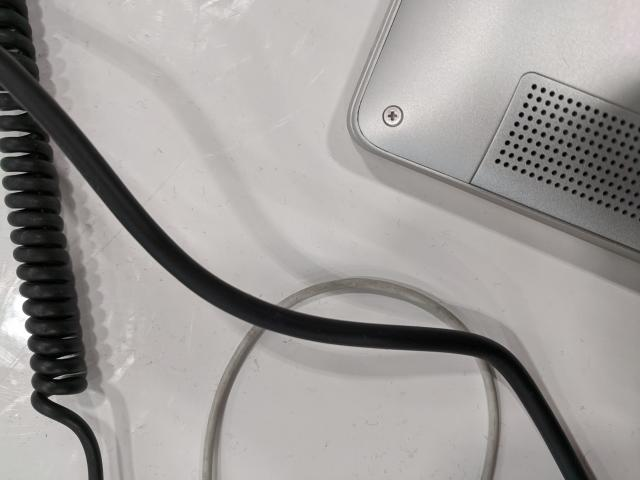CRS: (384, 104, 404, 126)
